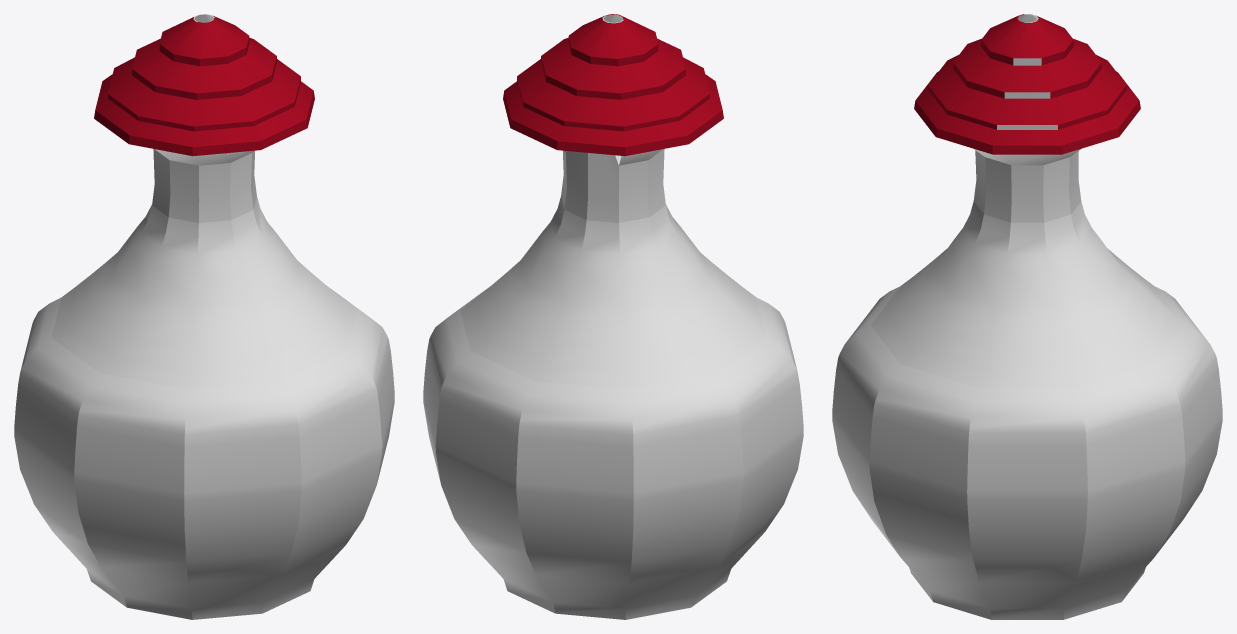
Rendered from gangajal.fbx.
3 views of the same model, side by side, from view 1: azimuth 30°, elevation 25°; view 2: azimuth 150°, elevation 25°; view 3: azimuth 270°, elevation 25° (orthographic).
Visible parts, largest first — view 1: Cylinder.002; view 2: Cylinder.002; view 3: Cylinder.002.
Part boxes in pixels (box(x1,y1,x2,y2)): Cylinder.002: box(14, 14, 394, 619); Cylinder.002: box(423, 14, 803, 619); Cylinder.002: box(832, 14, 1222, 619).
Bounding box in the file's own units: 1608 × 2649 × 1691.
